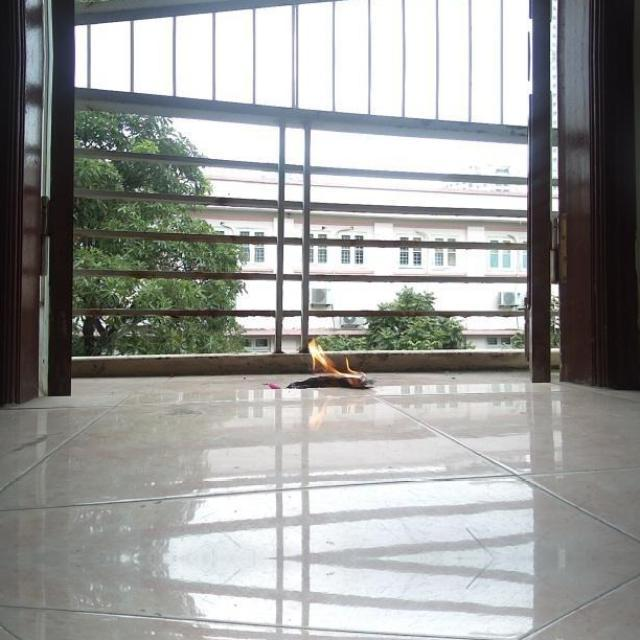smoke: (305, 334, 364, 388)
